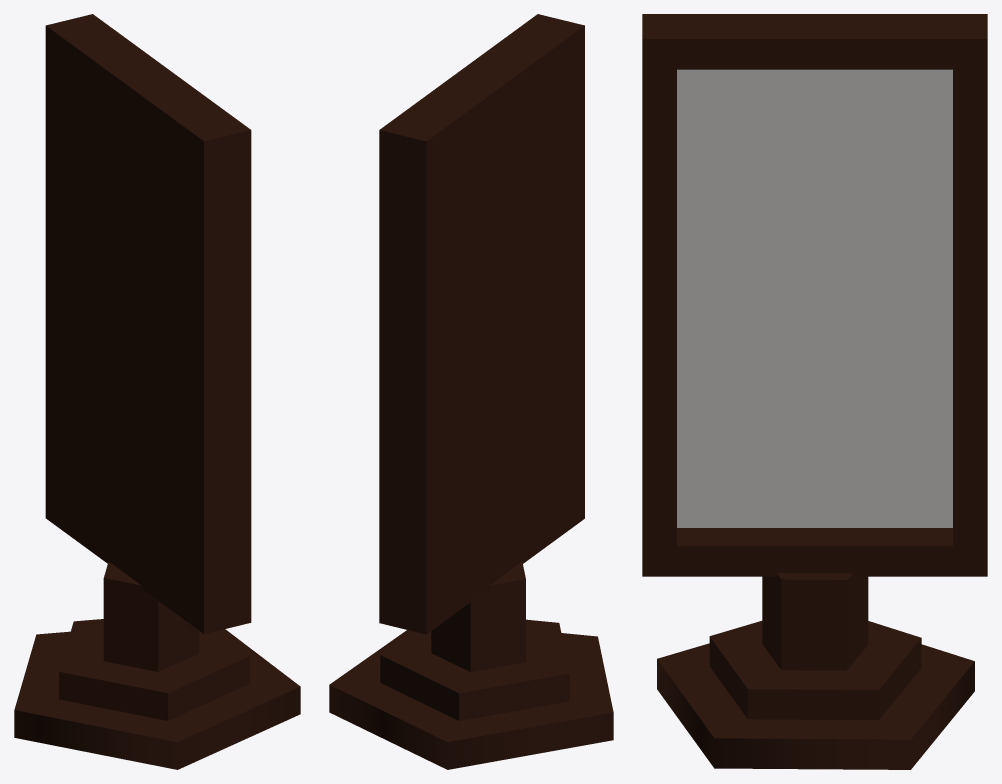
Rendered from Mirror.FBX.
The picture shows the model from 3 angles, left to right: view 1: azimuth 30°, elevation 25°; view 2: azimuth 150°, elevation 25°; view 3: azimuth 270°, elevation 25°; orthographic projection. The views are drawn at different scales.
Parts seen in each view (by area): view 1: Panel, Base; view 2: Panel, Base; view 3: Panel, Base.
Part boxes in pixels (bbox=[...]): Panel: bbox=[45, 14, 251, 633]; Base: bbox=[14, 561, 300, 769]; Panel: bbox=[379, 14, 584, 634]; Base: bbox=[329, 562, 613, 769]; Panel: bbox=[642, 14, 987, 576]; Base: bbox=[657, 573, 974, 769].
Size of the model in its own units: 20.18 by 50.22 by 22.93.
